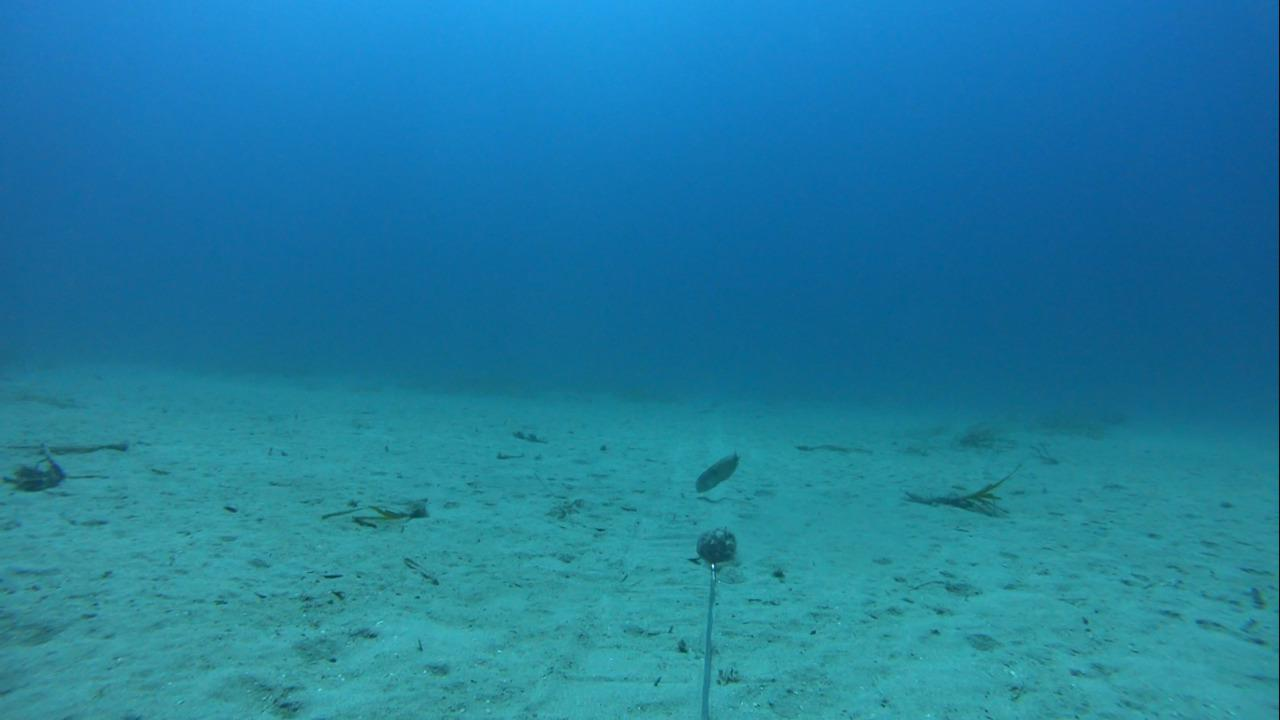raor: (689, 446, 741, 498)
